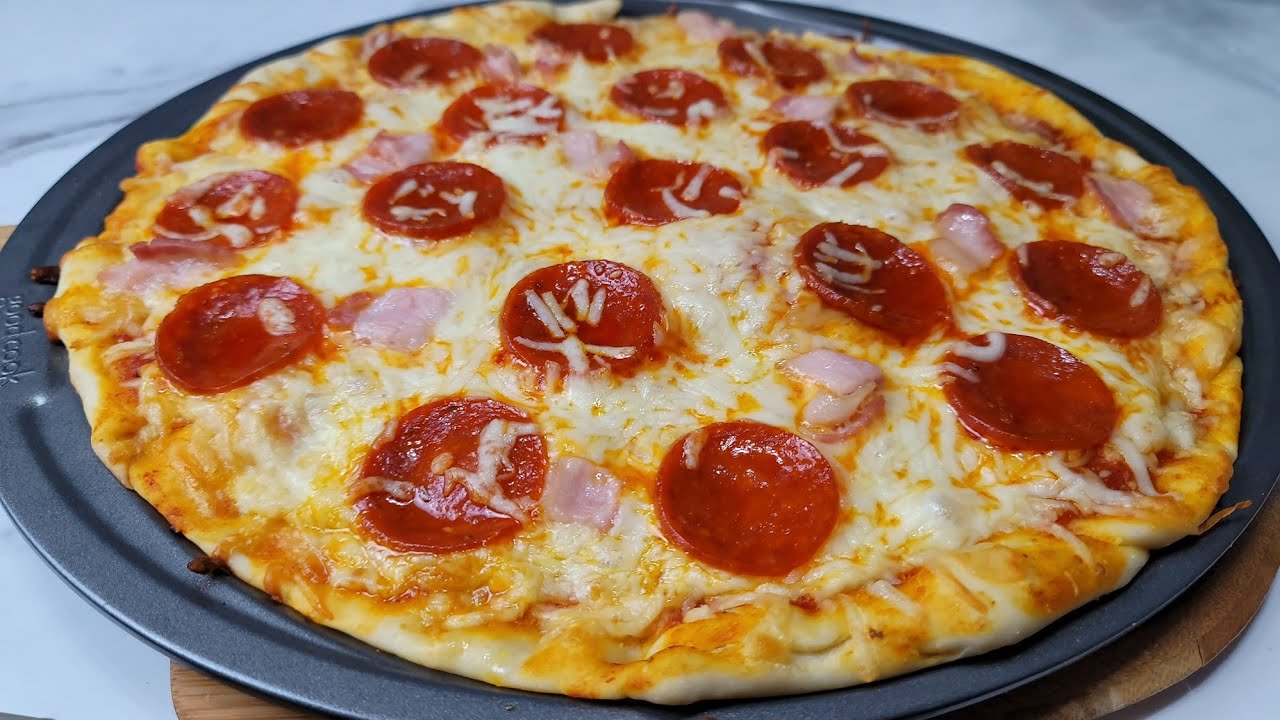Ham: (1090, 170, 1181, 244), (350, 291, 452, 353), (922, 204, 1009, 276), (779, 346, 883, 403), (553, 452, 616, 527), (93, 254, 202, 297), (339, 129, 425, 181), (557, 128, 621, 172), (776, 96, 852, 125)
Pepperoni: (350, 394, 550, 556), (653, 419, 845, 580), (935, 333, 1123, 455), (790, 218, 962, 346), (495, 262, 673, 382), (154, 276, 324, 394), (1011, 244, 1169, 341), (143, 172, 303, 256), (359, 163, 513, 241), (954, 137, 1088, 210), (603, 160, 753, 224), (758, 117, 890, 189), (440, 85, 565, 154), (234, 90, 367, 151), (610, 68, 734, 128), (712, 29, 828, 93), (839, 76, 962, 129), (370, 32, 486, 88), (527, 20, 641, 68)
Pizza: (44, 5, 1250, 709)
